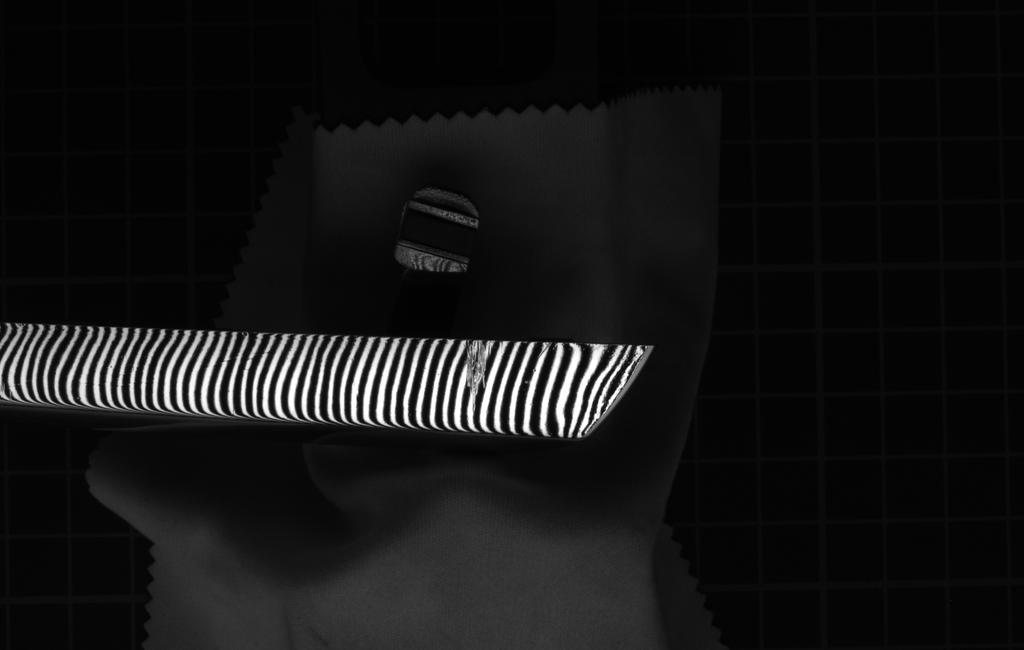Pitting: (457, 336, 493, 410)
